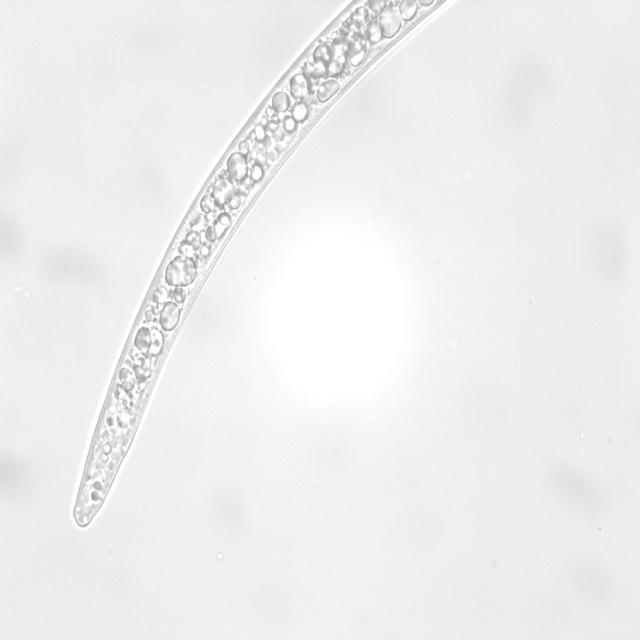Pratylenchus: (75, 0, 469, 532)
